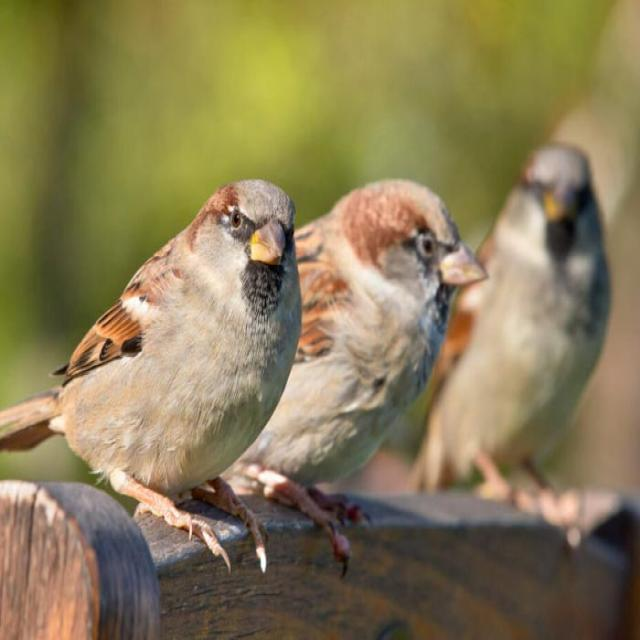bird: (0, 166, 300, 579), (438, 130, 616, 530), (293, 173, 492, 504)
